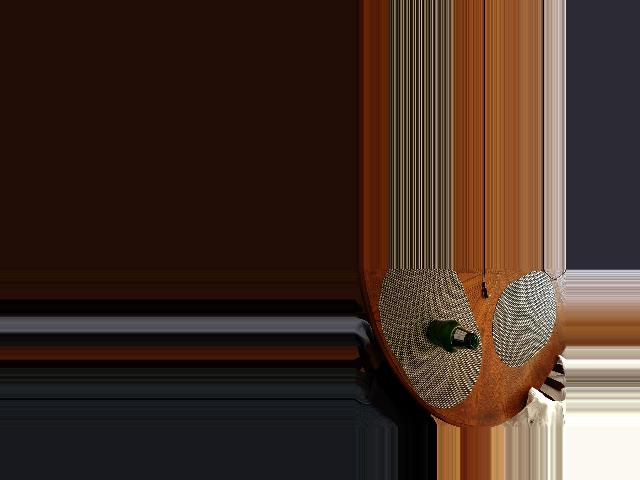beer: (426, 321, 478, 353)
